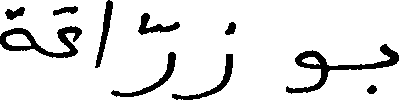ا: (92, 0, 110, 96)
ب: (363, 41, 397, 94)
ة: (0, 4, 33, 51)
ر: (111, 0, 174, 99)
ز: (173, 19, 233, 98)
ع: (56, 3, 78, 58)
و: (285, 48, 329, 95)
